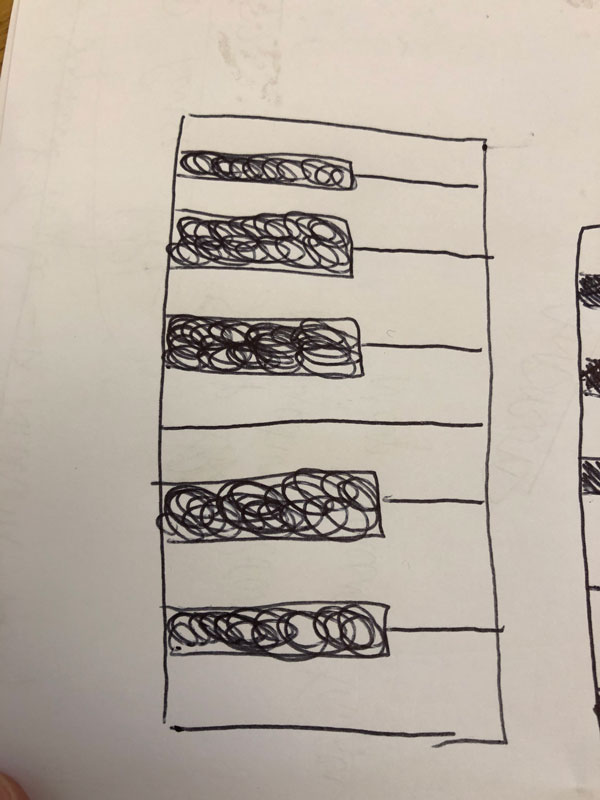piano: (144, 91, 518, 750)
